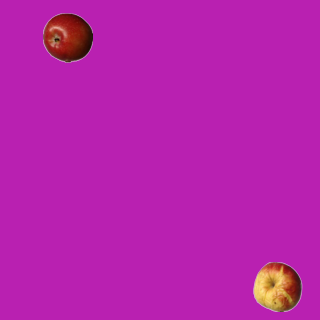Apple Braeburn: (42, 12, 92, 62)
Apple Red Yellow 1: (252, 261, 302, 311)
